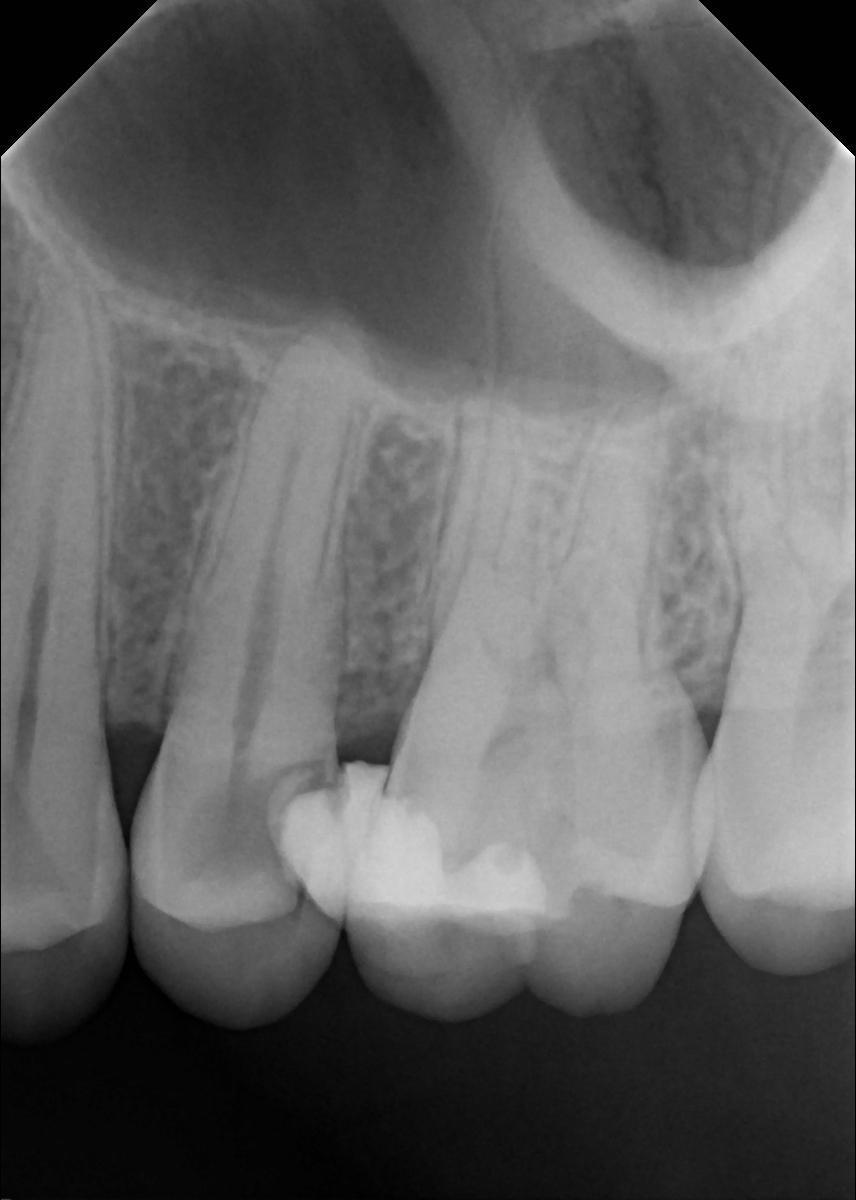Furcation Involvement: (564, 12, 685, 251)
